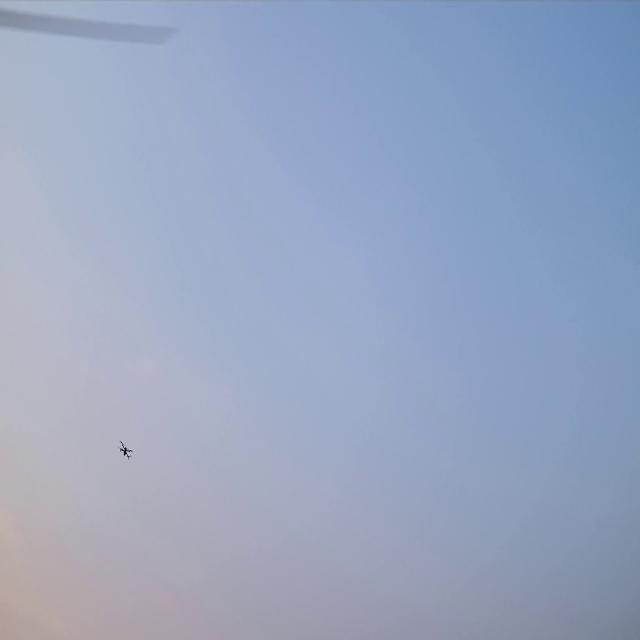UAV: (118, 440, 134, 460)
